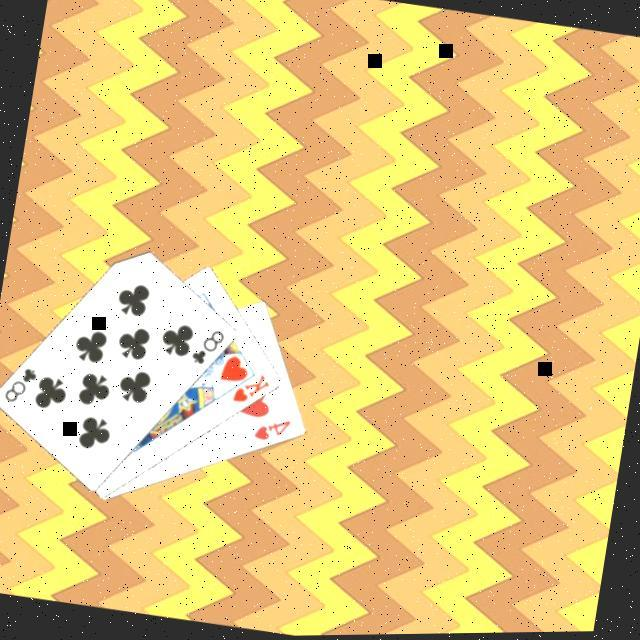4H: (248, 411, 294, 448)
8C: (186, 322, 227, 369), (0, 360, 39, 407)
KH: (227, 365, 273, 410)
